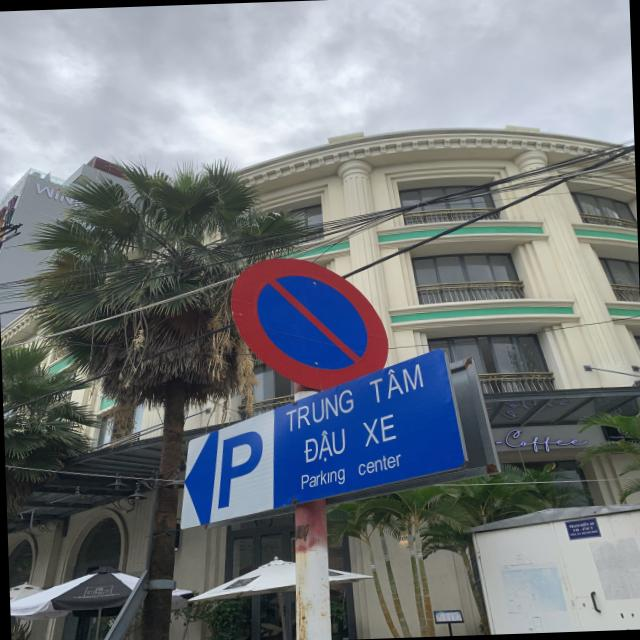Cam_Dau_Xe: (232, 248, 396, 391)
